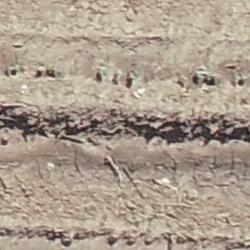cotton: (97, 67, 105, 75), (129, 71, 138, 77), (46, 65, 55, 71), (237, 76, 246, 80), (115, 70, 121, 76), (197, 72, 202, 78), (12, 64, 17, 68)
